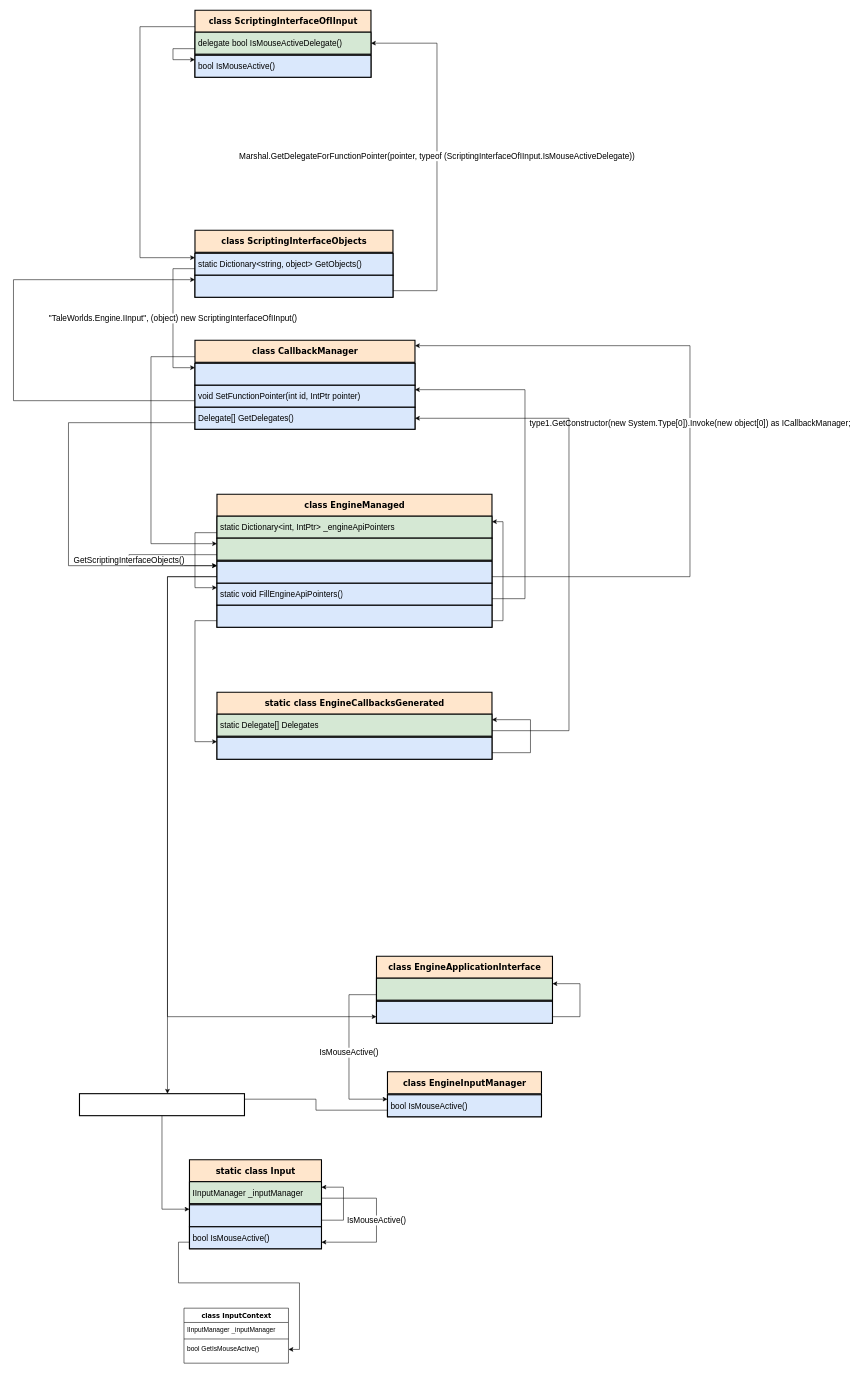
The diagram is 860 pixels wide and 1373 high, and some of its shapes have lost their labels. Each missing label, with the centre of its shape:
"(IInputManager) new EngineInputManager()" goes at (162,1104).
"Dictionary<string, object> GetScriptingInterfaceObjects()" goes at (304,374).
"static ICallbackManager _callbackManager" goes at (354,548).
"static IInput IInput" goes at (464,988).
"static void EngineApiMethodInterfaceInitializer(int id, IntPtr pointer)" goes at (354,616).
"static void Initialize()" goes at (354,748).
"static void SetFunctionPointer(int id, IntPtr pointer)" goes at (293,286).
"static void SetObjects" goes at (464,1012).
"void Initialize" goes at (255,1215).
"void OnInitialize()" goes at (354,572).
